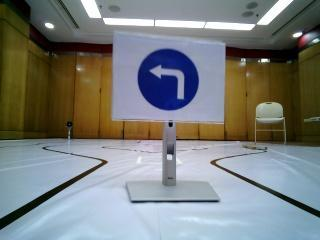left: (119, 39, 211, 115)
